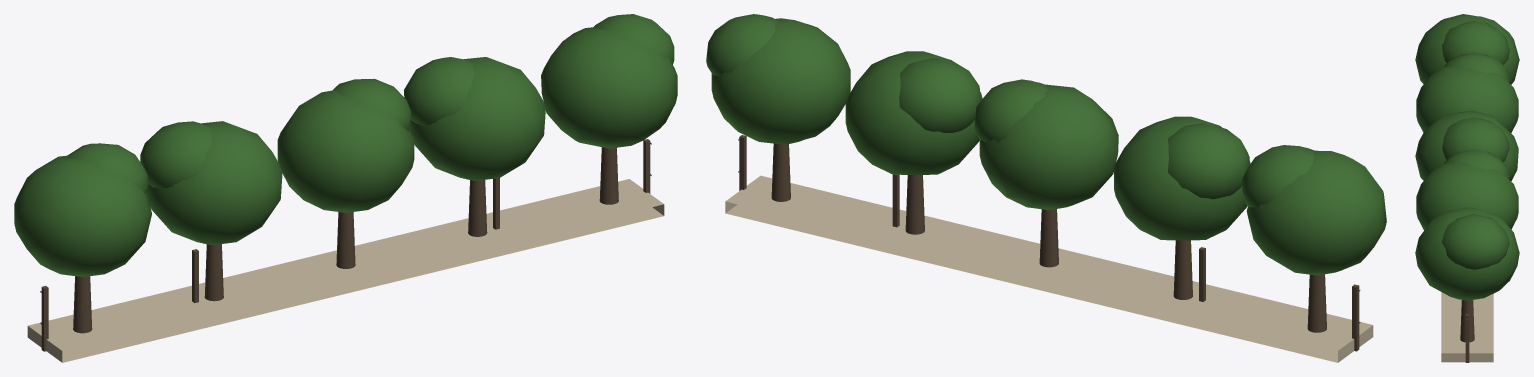
The model's file is d-it-04-orchard-tree-row.lod1.glb.
3 renders of one model, left to right at view 1: azimuth 30°, elevation 25°; view 2: azimuth 150°, elevation 25°; view 3: azimuth 270°, elevation 25°, orthographic. The views are drawn at different scales.
Parts seen in each view (by area): view 1: part0, part21, part9, part15, part12, part18, part13, part19, part16, part10, part22, part8 (+4 smaller); view 2: part0, part21, part15, part9, part18, part12, part13, part19, part10, part16, part22, part11 (+4 smaller); view 3: part21, part12, part18, part0, part22, part9, part15, part16, part10, part13, part19, part20 (+1 smaller).
Boxes of the visible parts, left/top/right/bottom form: part0: left=27, top=179, right=664, bottom=362; part21: left=541, top=27, right=677, bottom=148; part9: left=14, top=155, right=151, bottom=276; part15: left=277, top=90, right=414, bottom=212; part12: left=146, top=121, right=282, bottom=244; part18: left=410, top=57, right=545, bottom=180; part13: left=140, top=121, right=212, bottom=187; part19: left=404, top=57, right=474, bottom=125; part16: left=333, top=78, right=410, bottom=130; part10: left=67, top=143, right=147, bottom=193; part22: left=593, top=14, right=674, bottom=64; part8: left=73, top=276, right=92, bottom=333; part0: left=725, top=175, right=1373, bottom=362; part21: left=711, top=18, right=850, bottom=144; part15: left=979, top=84, right=1118, bottom=210; part9: left=1246, top=150, right=1386, bottom=275; part18: left=845, top=51, right=982, bottom=175; part12: left=1114, top=116, right=1250, bottom=240; part13: left=1168, top=123, right=1249, bottom=199; part19: left=899, top=58, right=980, bottom=132; part10: left=1242, top=145, right=1314, bottom=207; part16: left=974, top=79, right=1048, bottom=142; part22: left=706, top=14, right=778, bottom=76; part11: left=1173, top=240, right=1192, bottom=299; part21: left=1415, top=207, right=1519, bottom=300; part12: left=1416, top=66, right=1518, bottom=132; part18: left=1416, top=162, right=1518, bottom=230; part0: left=1441, top=292, right=1493, bottom=362; part22: left=1442, top=214, right=1509, bottom=269; part9: left=1415, top=14, right=1519, bottom=84; part15: left=1415, top=110, right=1518, bottom=181; part16: left=1442, top=117, right=1509, bottom=162; part10: left=1442, top=21, right=1509, bottom=65; part13: left=1444, top=52, right=1509, bottom=82; part19: left=1443, top=149, right=1509, bottom=178; part20: left=1460, top=300, right=1474, bottom=342.
Size of the model in its own units: 17284 by 4700 by 3198.
